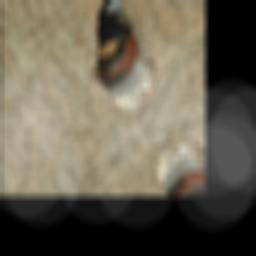Swallow: (73, 1, 148, 95)
